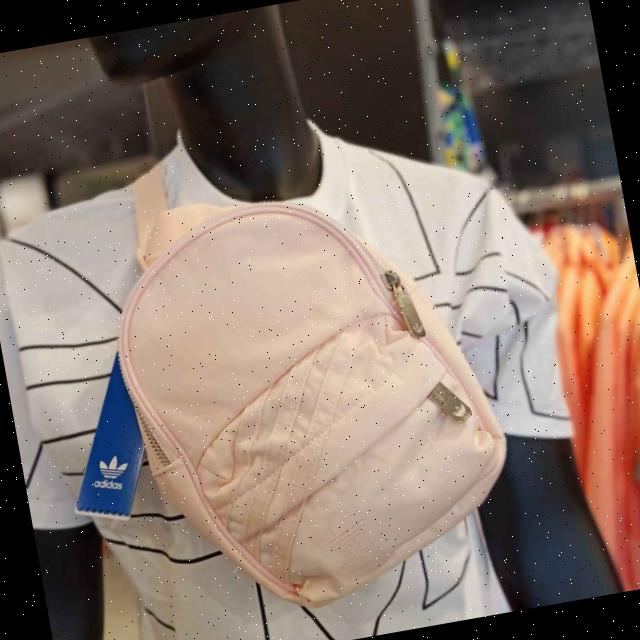handbag: (100, 149, 524, 626)
